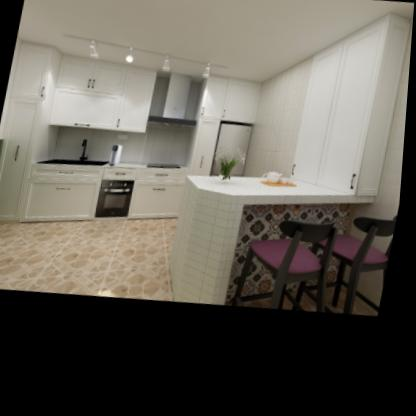Cabinet: (292, 19, 411, 200), (47, 54, 158, 136), (23, 158, 108, 231)
